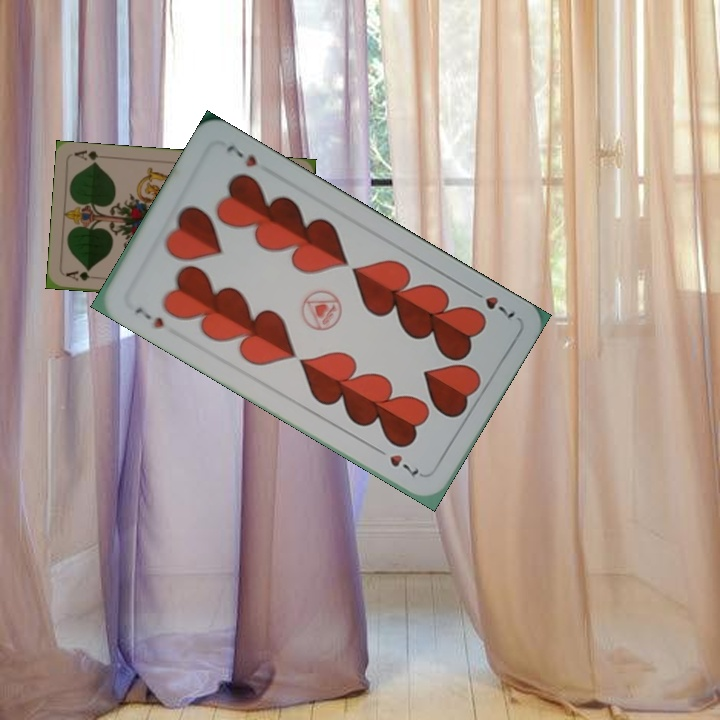GA: (62, 266, 92, 283)
H7: (466, 285, 519, 321), (131, 303, 167, 332)
